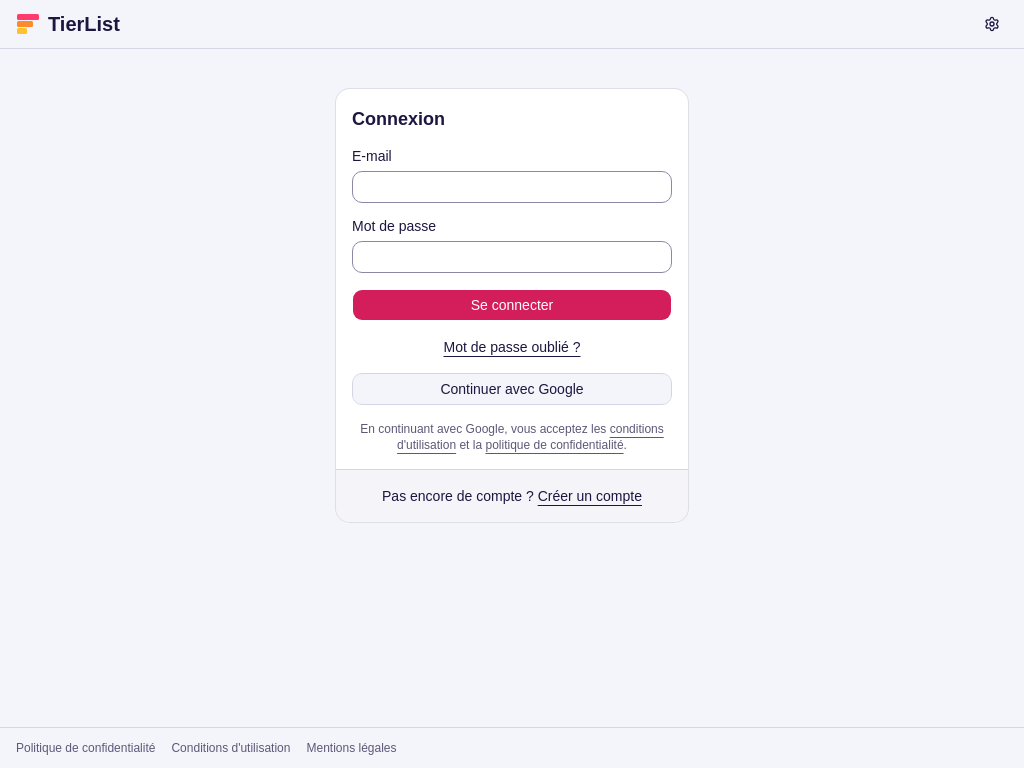
Test: SettingsPanel › opens from the gear button and closes with its close button
The image size is (1024, 768).
Click the button named "Paramètres": {"x": 992, "y": 24} [976,8,1008,40]
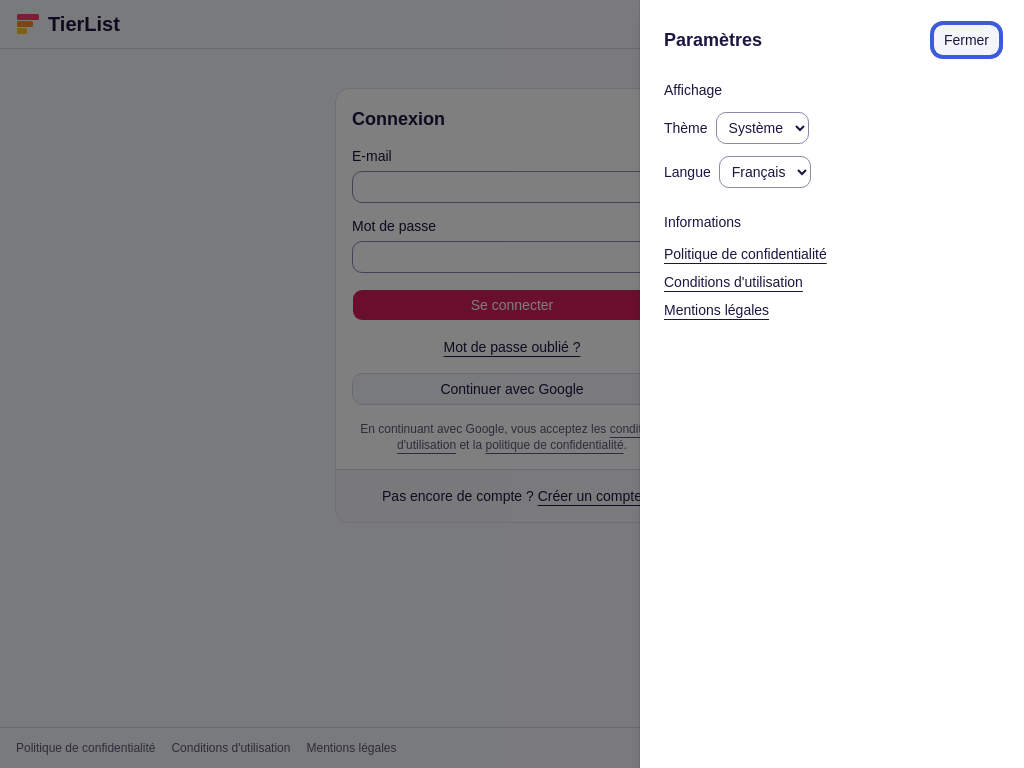
Now the dialog "Paramètres" is shown, box [640,0,1023,767]
Click the button "Fermer": {"x": 966, "y": 40} [933,24,1000,56]
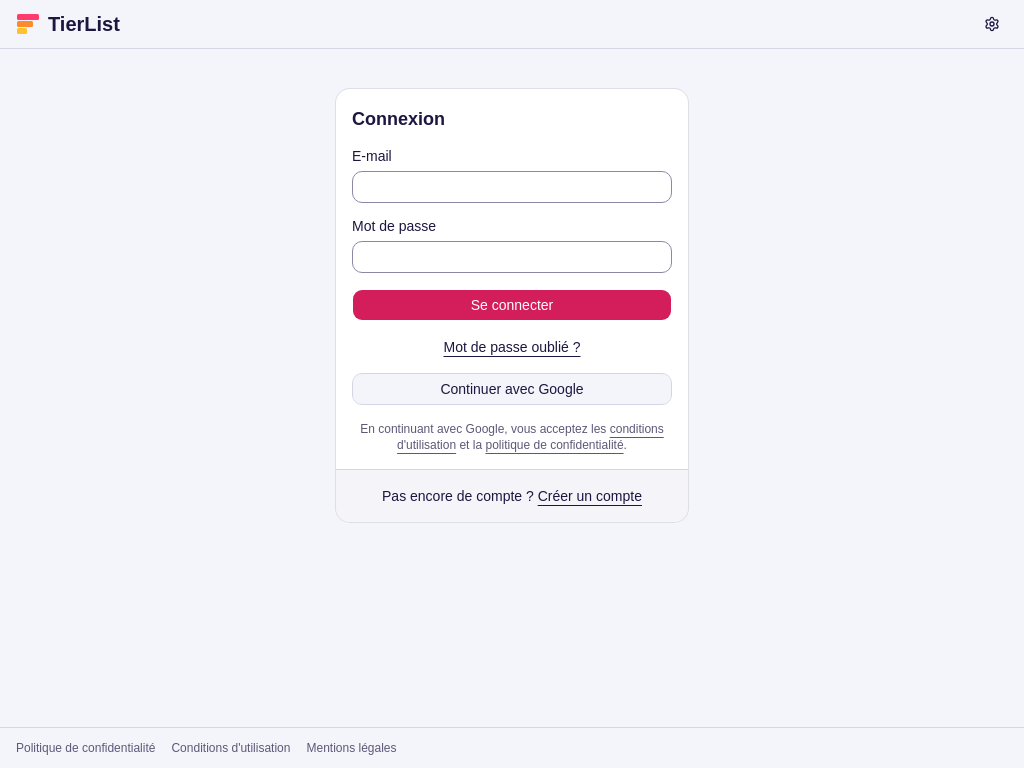
Now the heading "Paramètres" is gone
